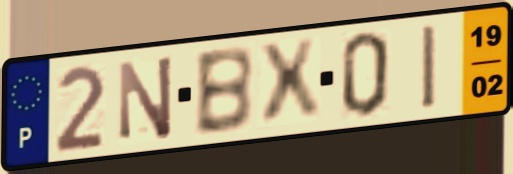0: (338, 28, 392, 121)
2: (52, 61, 109, 156)
B: (192, 44, 256, 139)
I: (419, 21, 439, 113)
N: (116, 52, 176, 143)
X: (255, 35, 324, 131)
